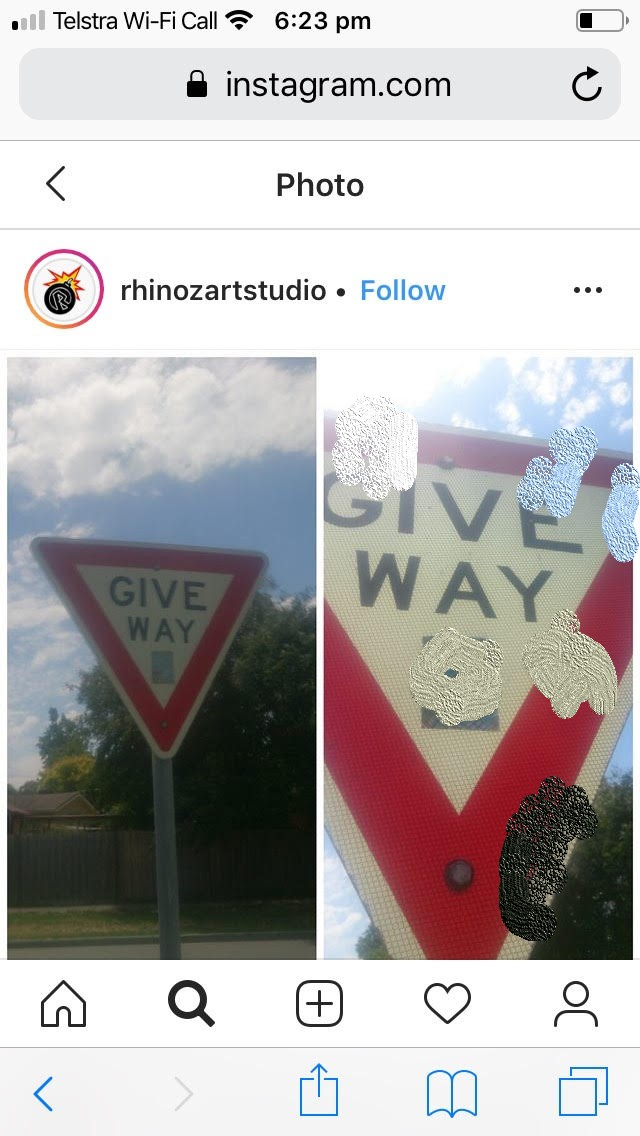giveway: (323, 403, 615, 936), (391, 435, 588, 925), (334, 573, 589, 869)
